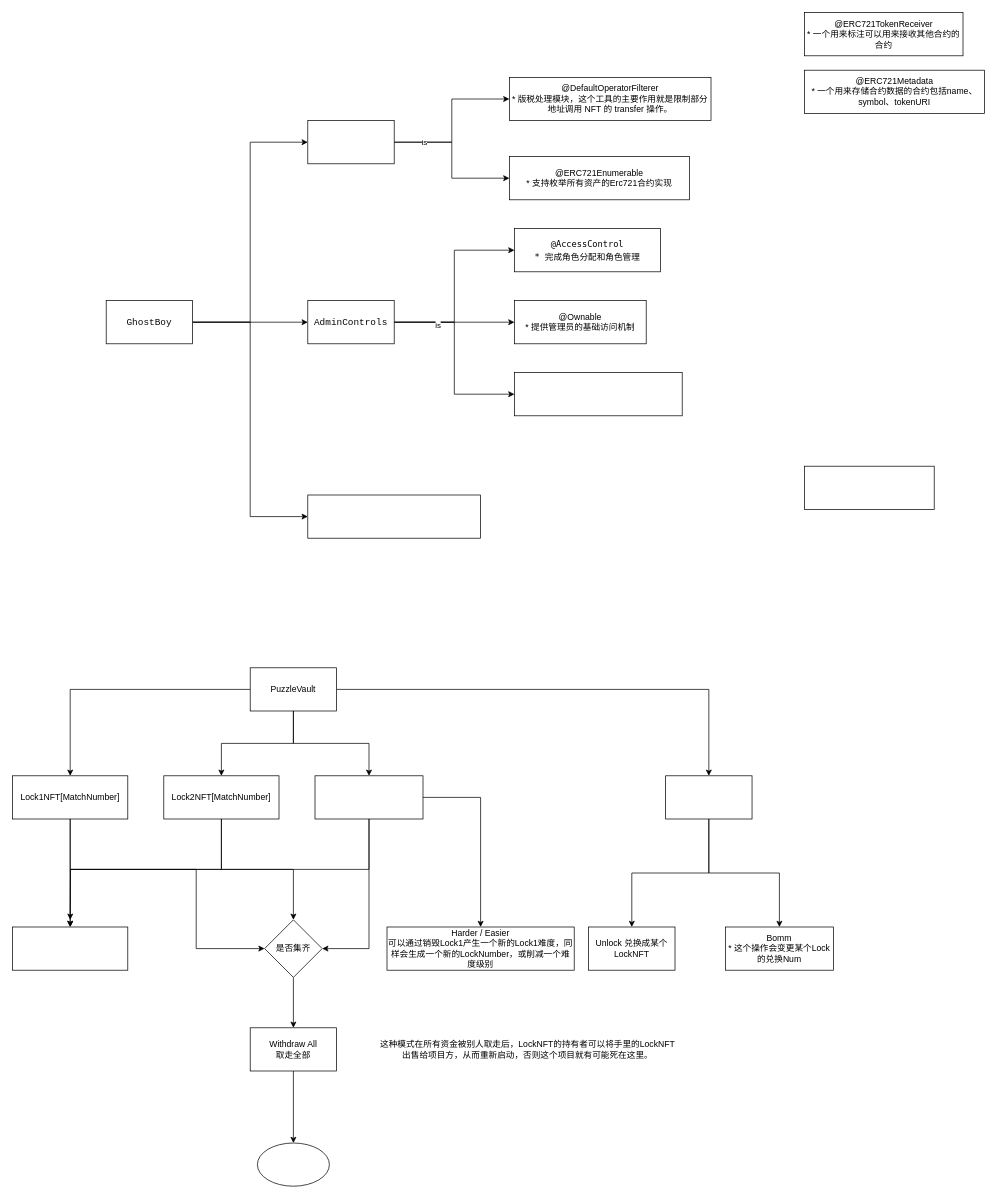
Some shapes in this 997 by 1199 pixel diagram are drawn without their labels. The shapes that lost their labels are listed below. From the top down, each one's centre as x and y in pixels, then its label:
At point 350,142: "Marketplace".
At point 598,394: "Recoverable * 当合约收到ERC20时，让合约可以把这些Token发出去".
At point 869,487: "@Address * 这个库用来检查，某个地址是合约还是普通用户".
At point 394,516: "Multicall * 用来支持一个泛批量调用".
At point 368,797: "Lock3NFT[MatchNumber]".
At point 708,797: "Numeric".
At point 70,948: "Obtain 20% 获取金库20%".
At point 293,1164: "结束".
